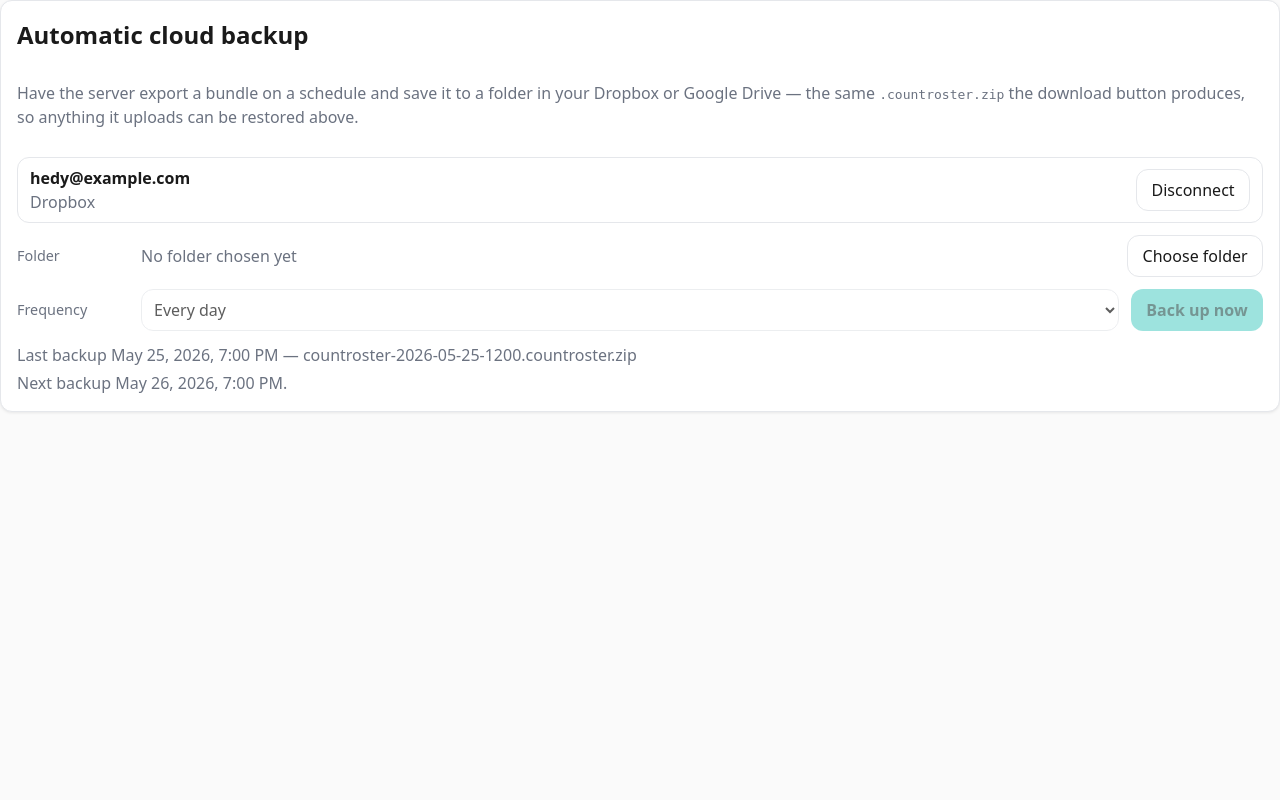
Test case: CloudBackupSettings › browses into a folder and saves it as the destination
The width and height of the screenshot is (1280, 800).
Click the button "Choose folder".
click(1195, 256)  # box left=1127, top=235, right=1263, bottom=277
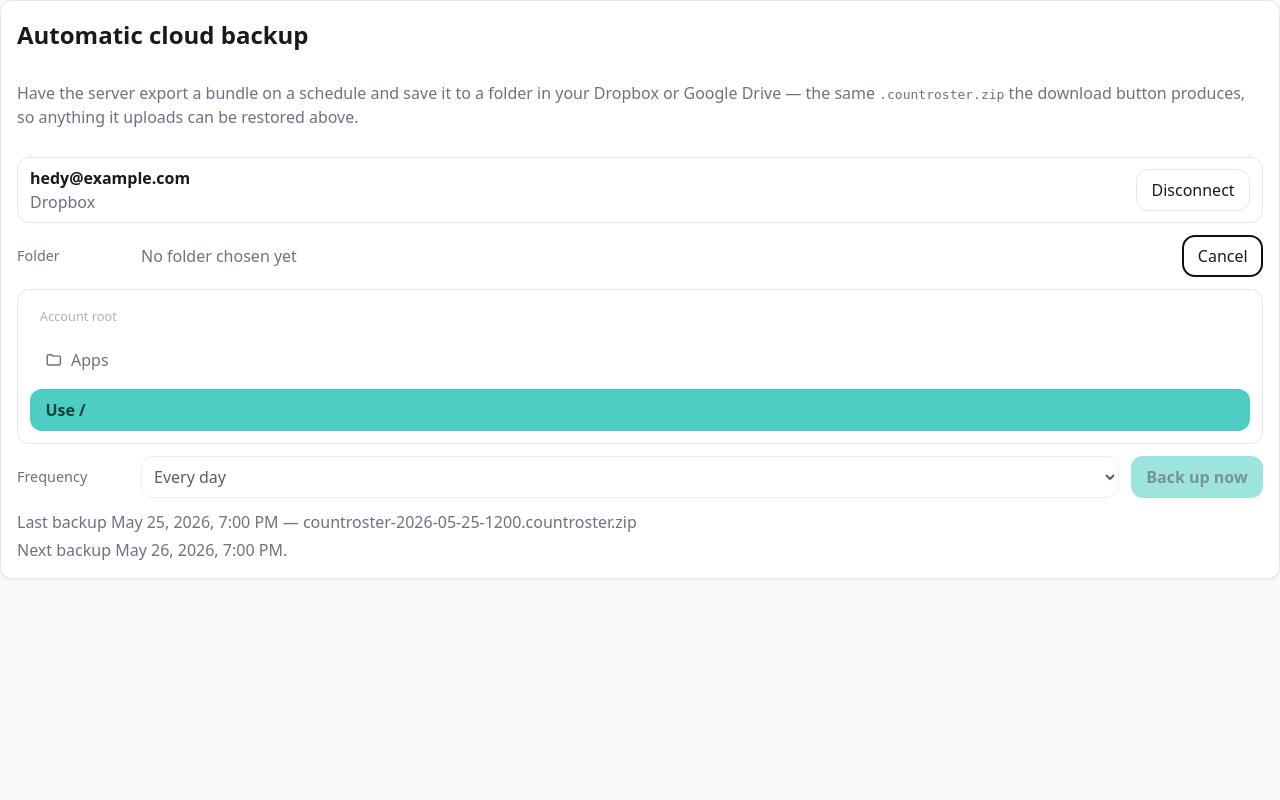
Note: Descend into Apps, then take it.
Click the button "Apps".
click(90, 360)  # box left=30, top=339, right=1250, bottom=381
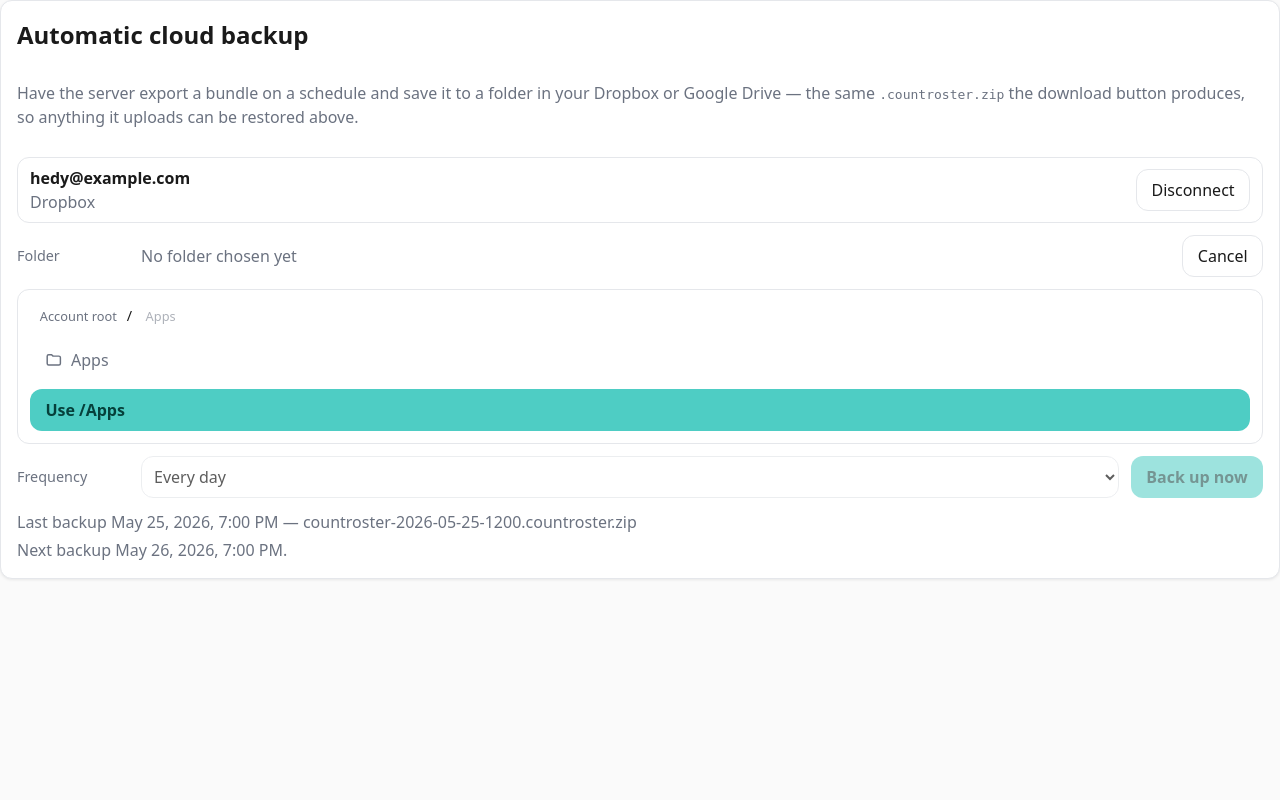
Click the button "Use /Apps".
click(62, 410)  # box left=30, top=389, right=1250, bottom=431
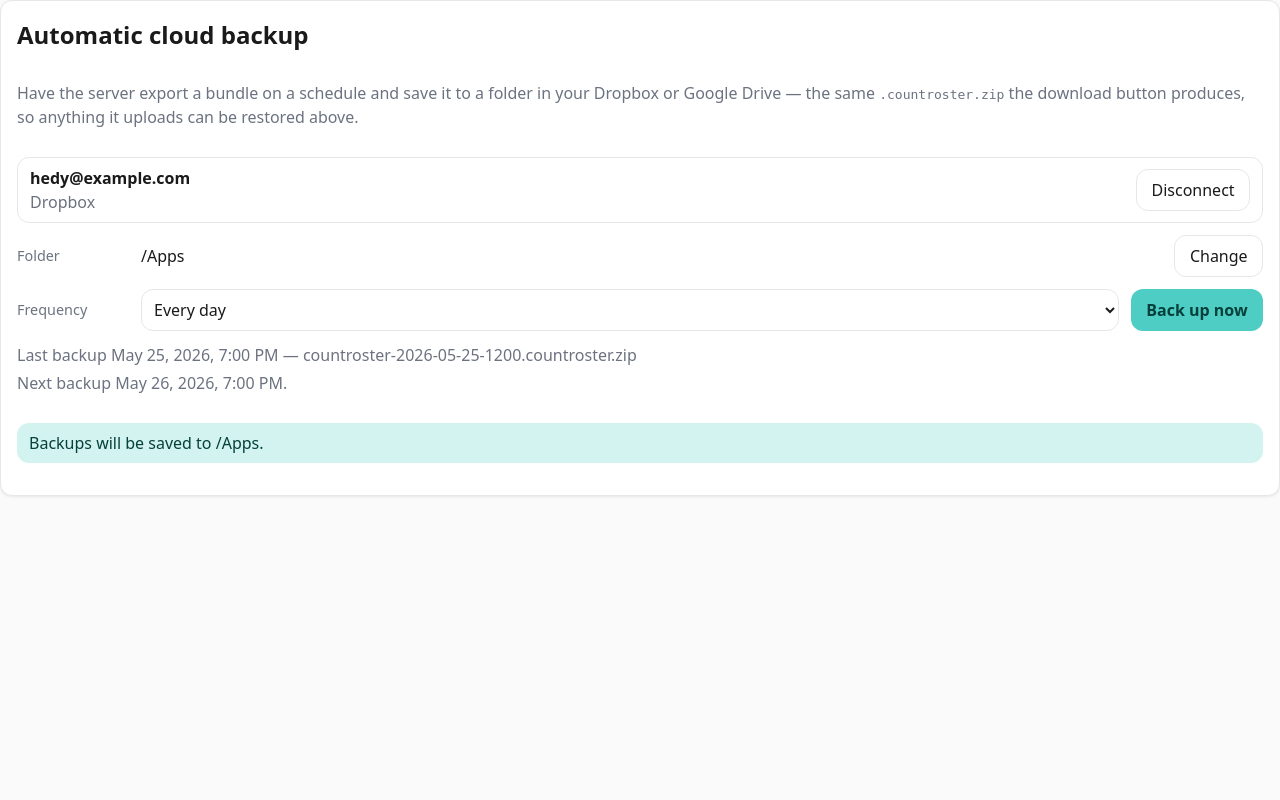
Now the text "Backups will be saved to /Apps." is shown, box left=17, top=423, right=1263, bottom=463
